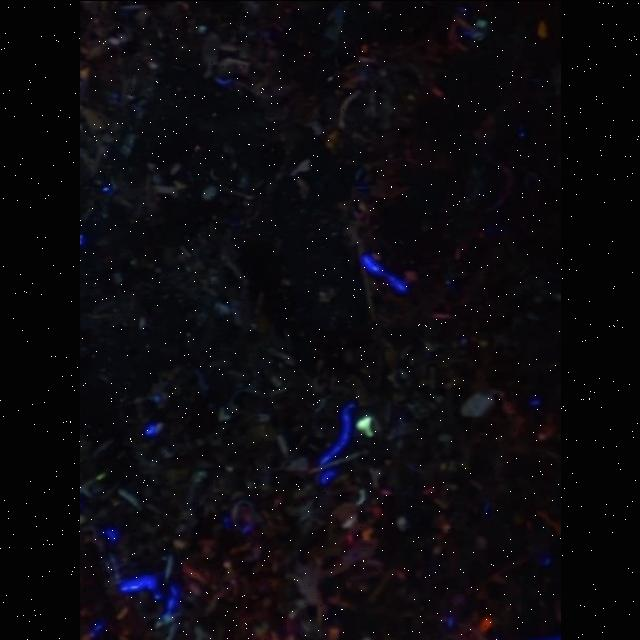microbeads: (354, 414, 372, 436)
